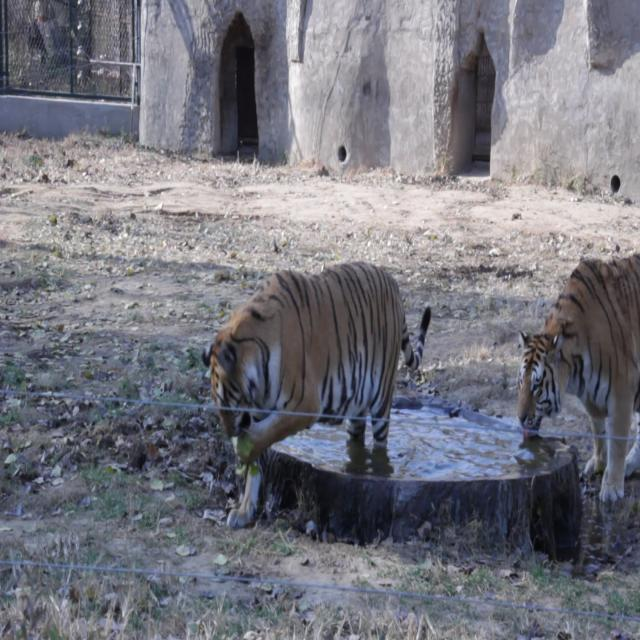Tiger: (202, 247, 444, 529), (505, 246, 640, 500)
